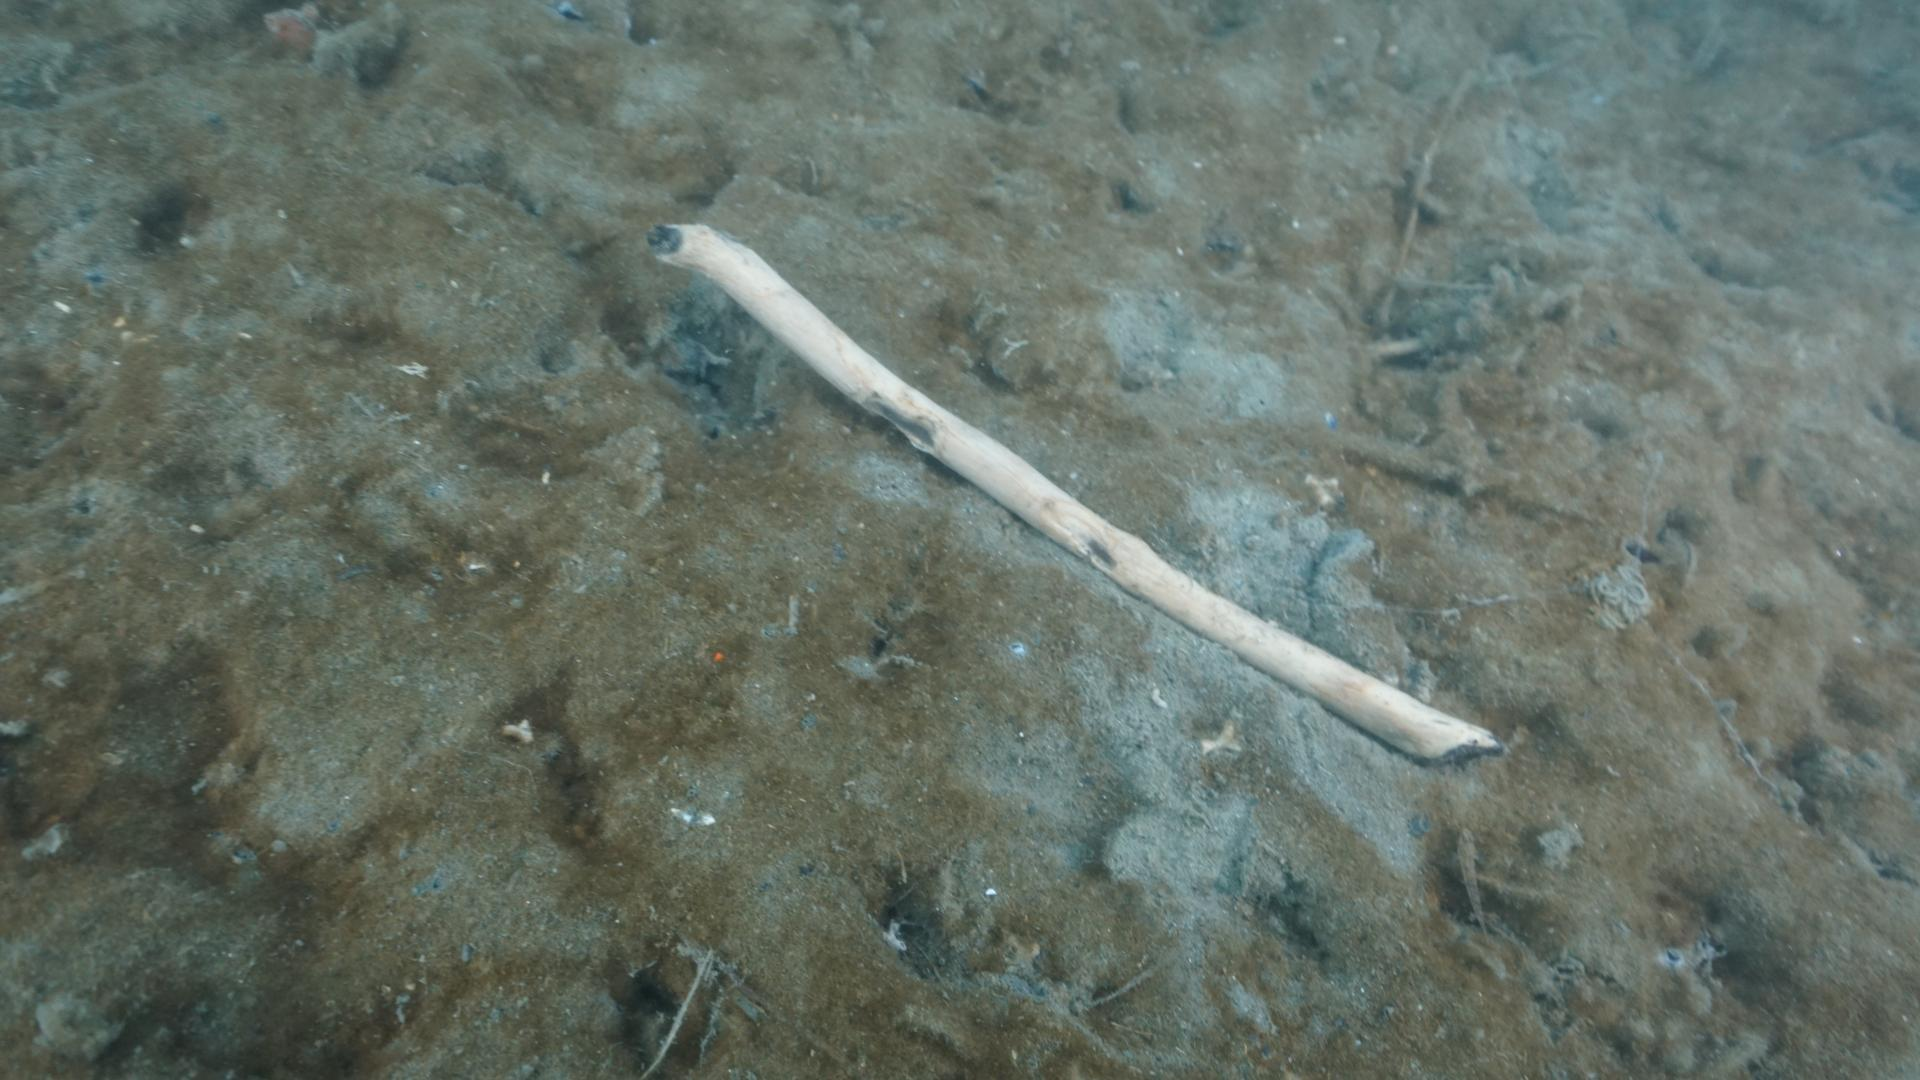wood: (641, 220, 1505, 769)
